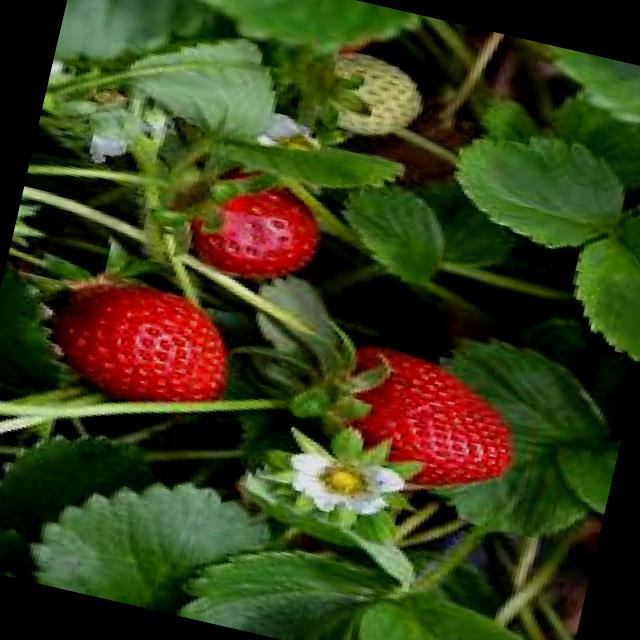strawberry: (262, 310, 534, 507), (34, 260, 248, 430)
